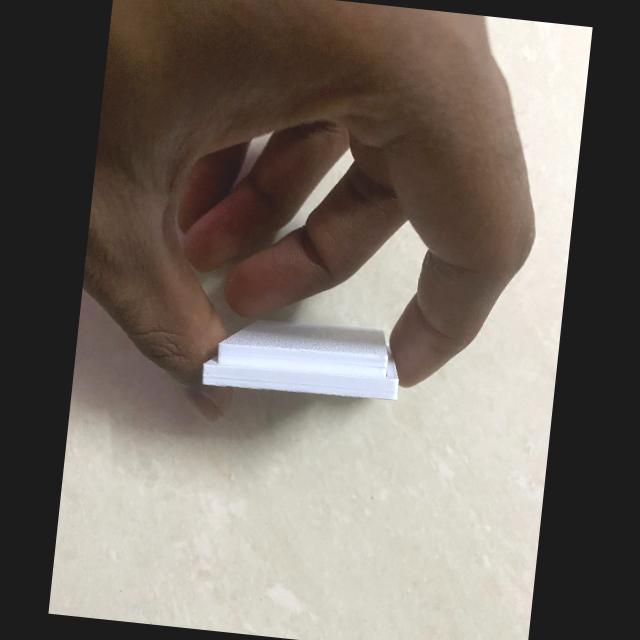RASPBERY PI CAM ENCLOSURE: (200, 312, 404, 405)
